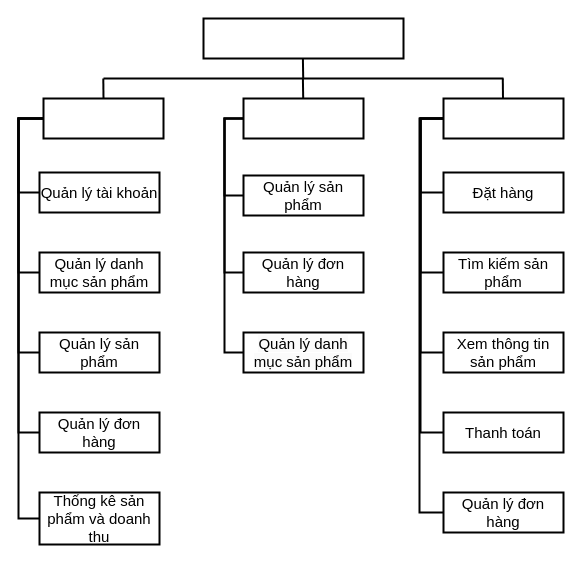
The diagram is 581 pixels wide and 562 high, and some of its shapes have lost their labels. Here are the shapes that lost their labels. From the top down, the centre of each, then its label:
[303,38]: Cửa hàng phụ kiện thể thao
[103,118]: Admin
[303,118]: Nhân viên
[503,118]: Khách hàng
